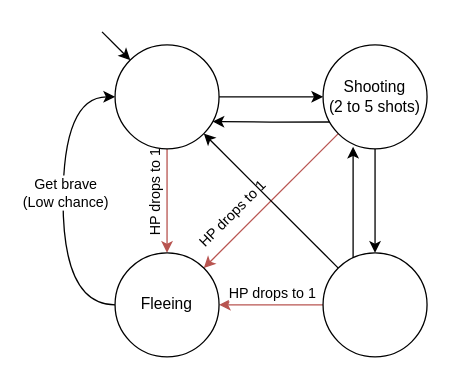
Some shapes in this 450 by 380 pixel diagram are drawn without their labels. Here are the shapes that lost their labels. From the top down, the centre of each, then its label:
[166,96]: Approaching (1 to 3s)
[374,304]: Idle (1 to 3s)
